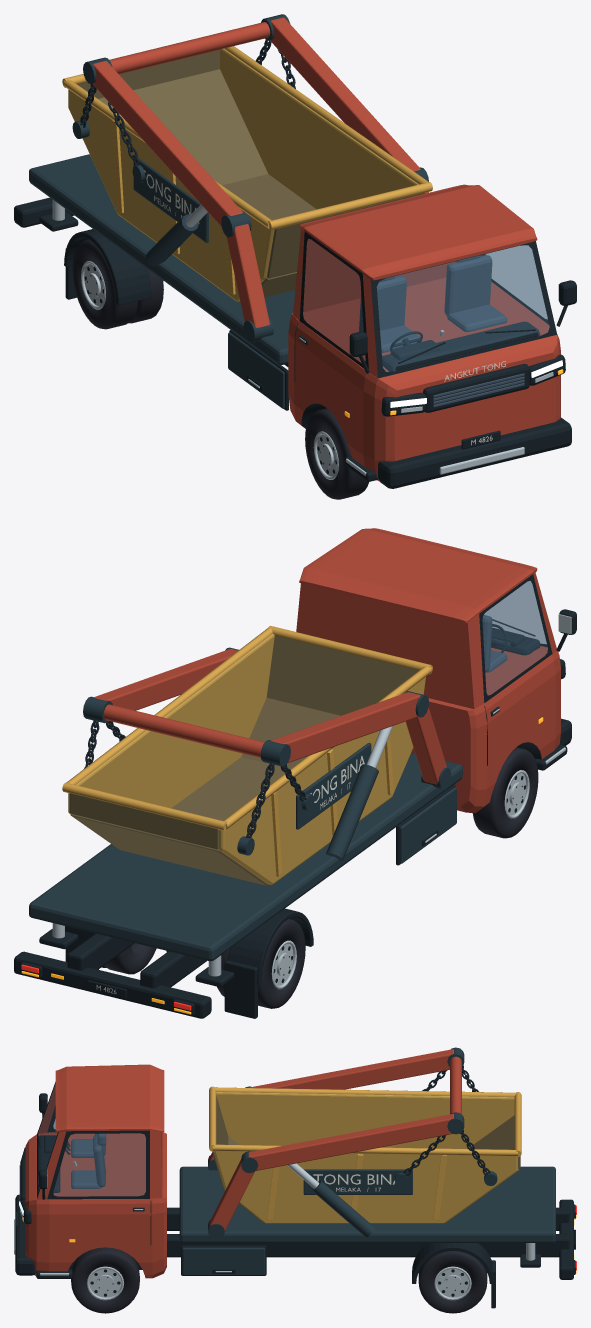
3 renders of one model, top to bottom at view 1: azimuth 30°, elevation 25°; view 2: azimuth 150°, elevation 25°; view 3: azimuth 270°, elevation 25°, orthographic. The views are drawn at different scales.
Parts seen in each view (by area): view 1: Melaka Builders Skip Loader; view 2: Melaka Builders Skip Loader; view 3: Melaka Builders Skip Loader.
Part boxes in pixels (x1=…): Melaka Builders Skip Loader: x1=14, y1=14, x2=576, y2=499; Melaka Builders Skip Loader: x1=14, y1=528, x2=576, y2=1018; Melaka Builders Skip Loader: x1=14, y1=1047, x2=576, y2=1313.
Size of the model in its own units: 2.62 by 2.93 by 7.61.
